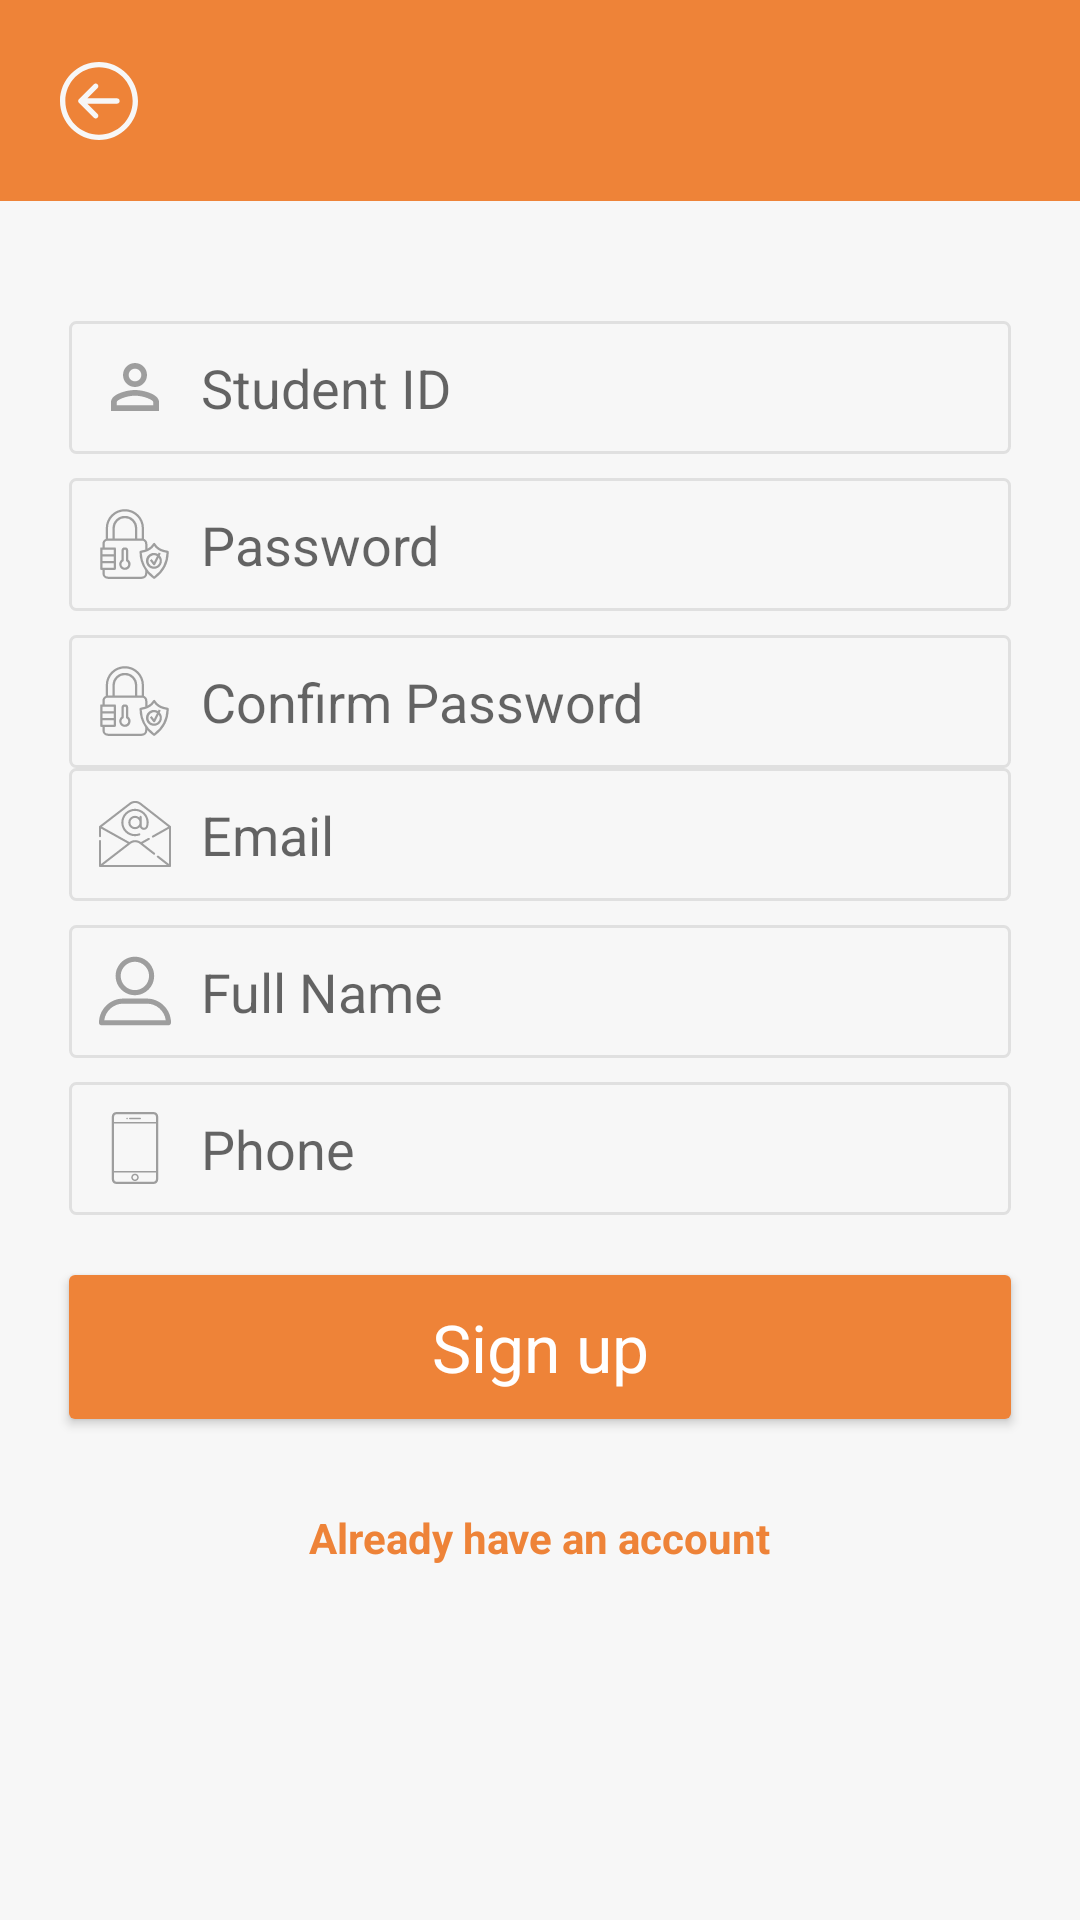

Point at icon controls on the screen. Image size 1080px×1920px, points as point (x, y).
back: point (99, 101)
